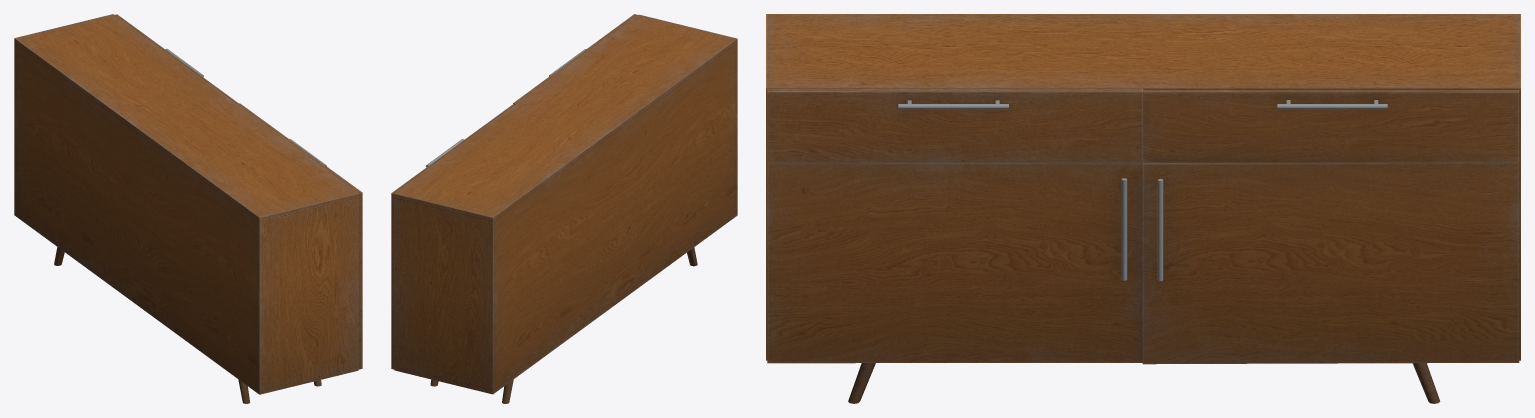
Rendered from Sideboard.gltf.
3 views of the same model, side by side, from view 1: azimuth 30°, elevation 25°; view 2: azimuth 150°, elevation 25°; view 3: azimuth 270°, elevation 25° (orthographic). The views are drawn at different scales.
Parts seen in each view (by area): view 1: Sideboard; view 2: Sideboard; view 3: Sideboard.
Boxes of the visible parts, box(x1,y1,x2,y2) form: Sideboard: box(14, 14, 362, 403); Sideboard: box(391, 14, 737, 403); Sideboard: box(766, 14, 1520, 403).
Bounding box in the file's own units: 0.4724 × 0.8488 × 1.8.
Materials: 1 (1 with a texture image).
